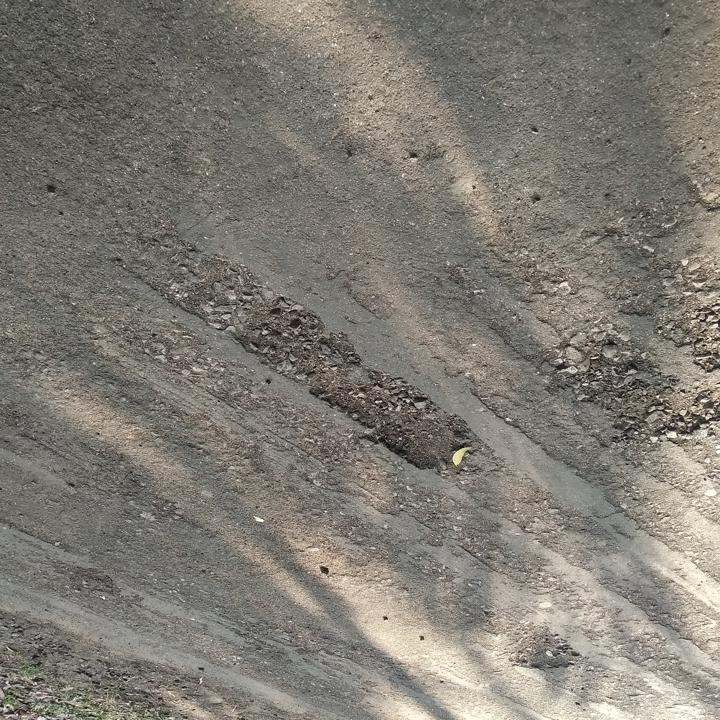pothole: (232, 294, 491, 478), (546, 325, 720, 448), (652, 300, 720, 376), (503, 619, 584, 677)
